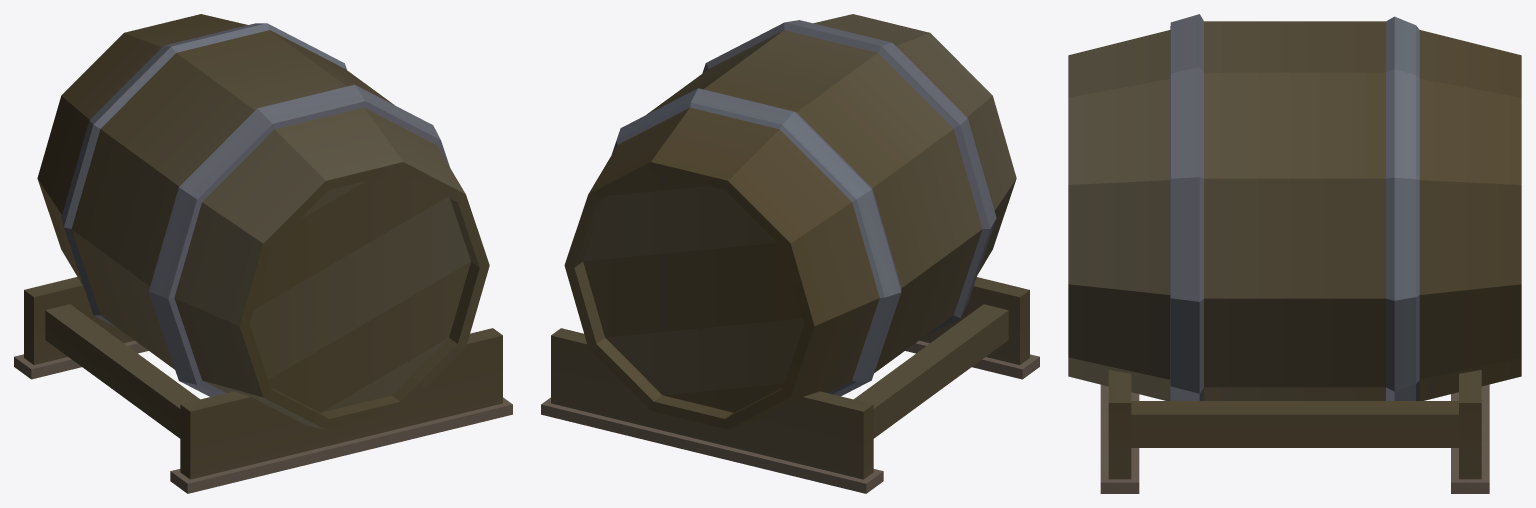
The model's file is Barrel_2A.fbx.
The picture shows the model from 3 angles, left to right: view 1: azimuth 30°, elevation 25°; view 2: azimuth 150°, elevation 25°; view 3: azimuth 270°, elevation 25°; orthographic projection. The views are drawn at different scales.
Visible parts, largest first — view 1: polySurface9639; view 2: polySurface9639; view 3: polySurface9639.
Part boxes in pixels (x1,y1,x2,y2): polySurface9639: (14, 14, 512, 493); polySurface9639: (541, 14, 1039, 493); polySurface9639: (1068, 14, 1521, 493).
Bounding box in the file's own units: 156 × 149 × 168.
